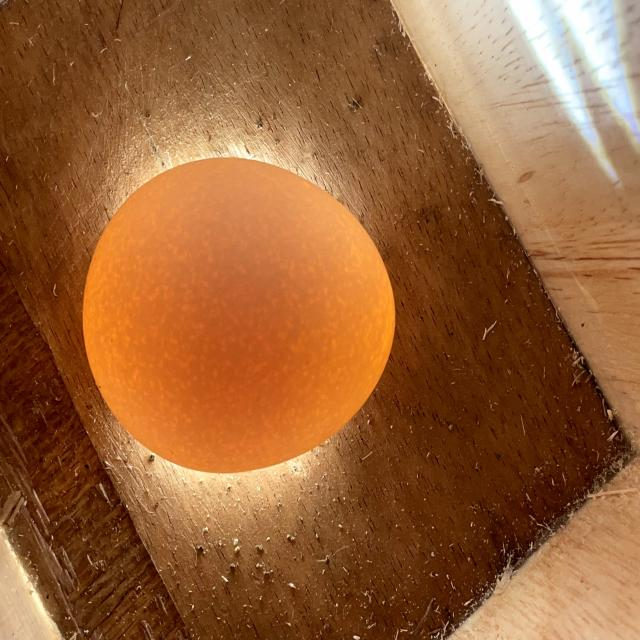infertile: (83, 158, 395, 473)
